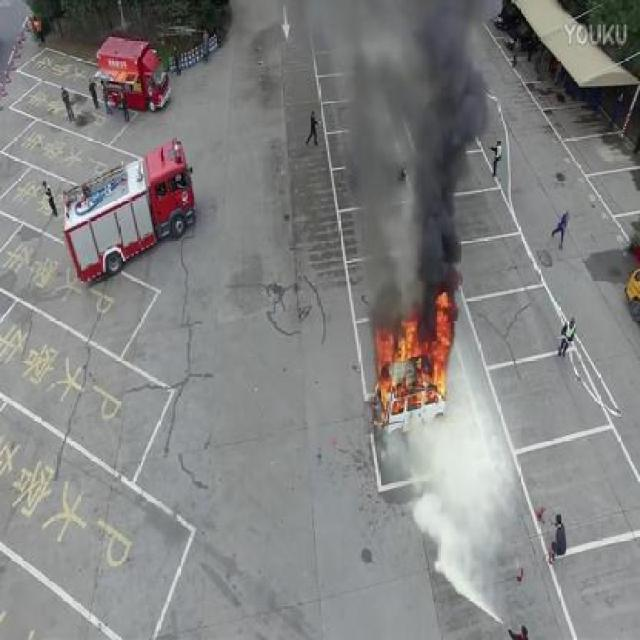Fire: (379, 291, 457, 414)
Smoke: (348, 0, 486, 288)
